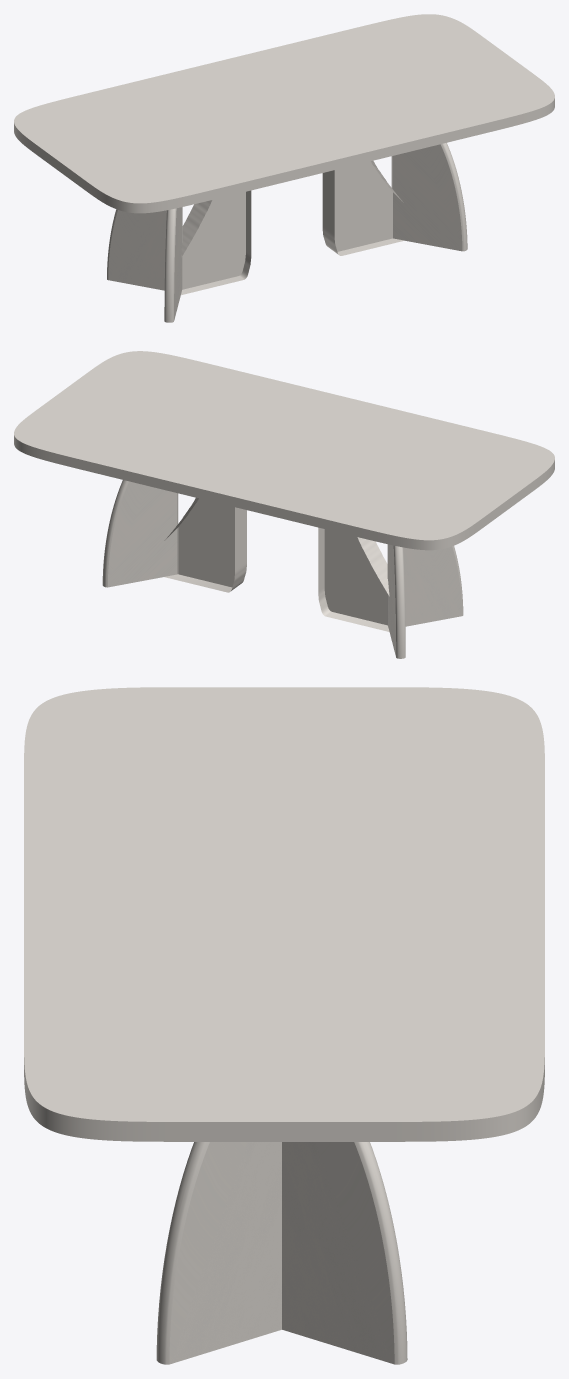
The model's file is pearlwhite_softrecta_standard_plane.glb.
The picture shows the model from 3 angles, top to bottom: view 1: azimuth 30°, elevation 25°; view 2: azimuth 150°, elevation 25°; view 3: azimuth 270°, elevation 25°; orthographic projection. The views are drawn at different scales.
Parts seen in each view (by area): view 1: standard_softrecta, plane_singleright2, plane_single1, plane_single2, plane_singleleft1, plane_singleright1; view 2: standard_softrecta, plane_singleleft2, plane_single1, plane_single2, plane_singleright1, plane_singleleft1; view 3: standard_softrecta, plane_singleleft2, plane_singleright2.
Boxes of the visible parts, box(x1,y1,x2,y2) form: standard_softrecta: box(14, 14, 554, 213); plane_singleright2: box(391, 142, 467, 251); plane_single1: box(181, 190, 251, 295); plane_single2: box(322, 161, 403, 255); plane_singleleft1: box(107, 207, 182, 290); plane_singleright1: box(164, 207, 182, 322); standard_softrecta: box(14, 351, 554, 550); plane_singleleft2: box(102, 480, 178, 587); plane_single1: box(318, 527, 389, 631); plane_single2: box(164, 497, 246, 592); plane_singleright1: box(387, 544, 463, 626); plane_singleleft1: box(388, 544, 405, 658); standard_softrecta: box(24, 687, 544, 1141); plane_singleleft2: box(282, 1142, 407, 1364); plane_singleright2: box(156, 1142, 281, 1364).
Bounding box in the file's own units: 7.5 × 2.5 × 3.8.
Materials: 1 (1 with a texture image).
